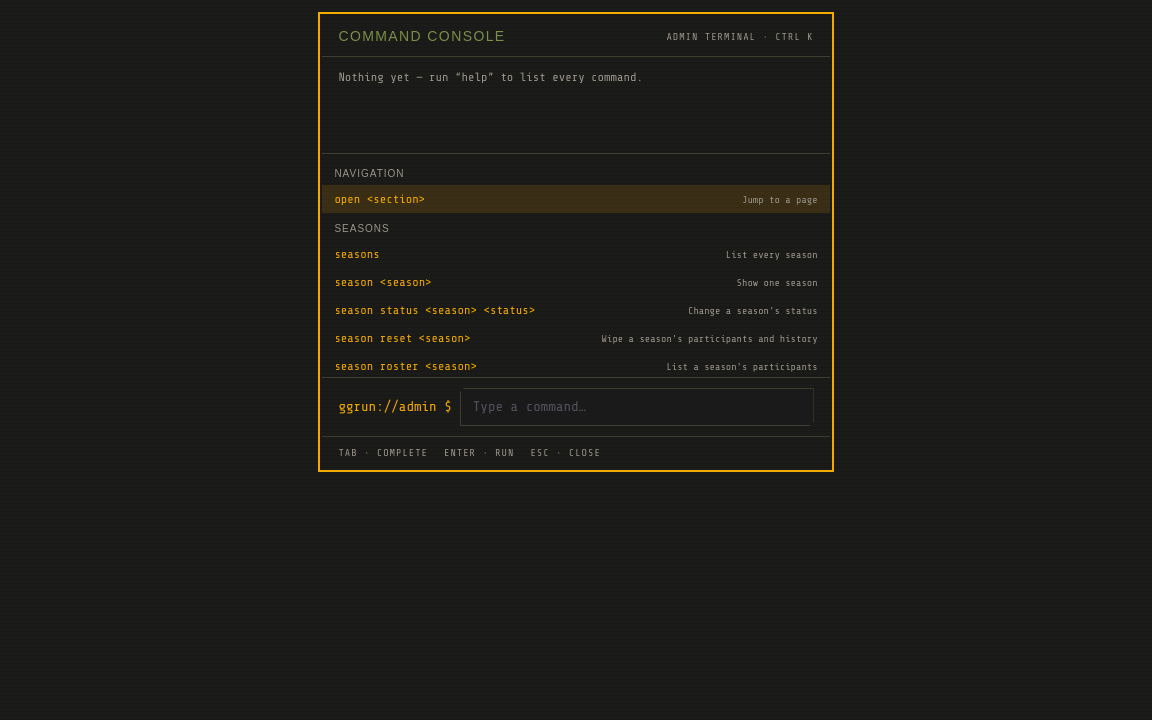
Scenario: client-only and result handling › revalidates and navigates when the outcome asks for it
Type "whoami" into the dropdown with placeholder "Type a command…" at (637, 407), box [460, 388, 814, 426]
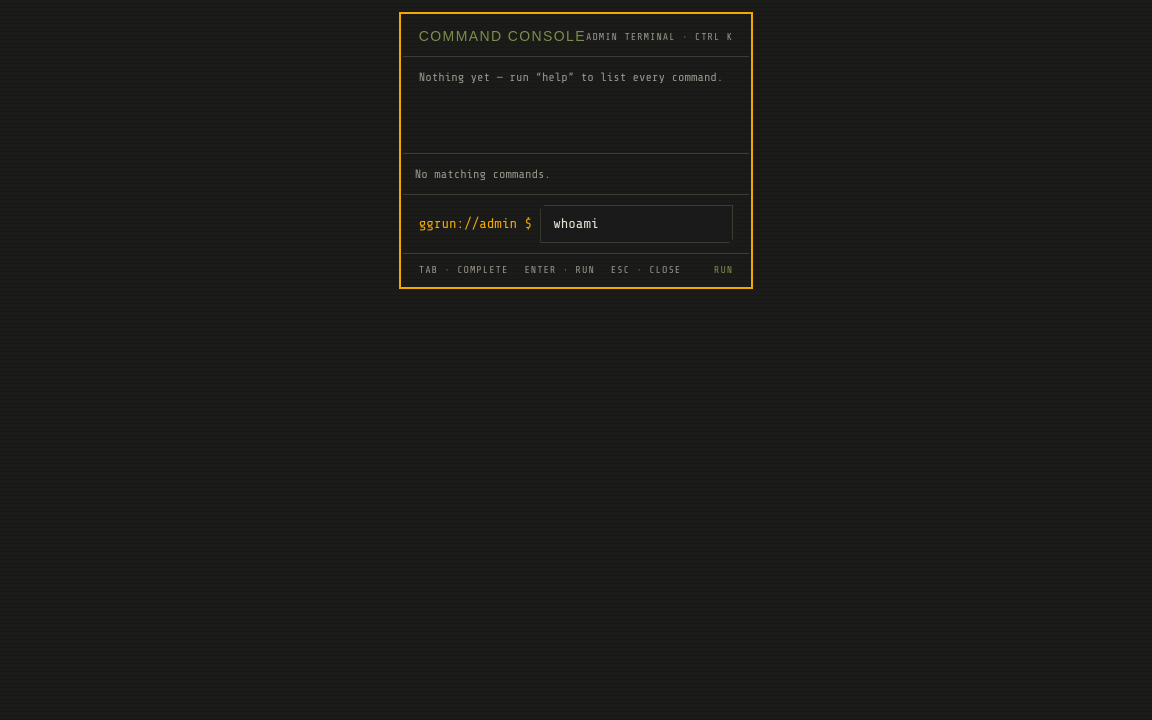
Press Enter in the dropdown with placeholder "Type a command…", box [540, 205, 733, 243]
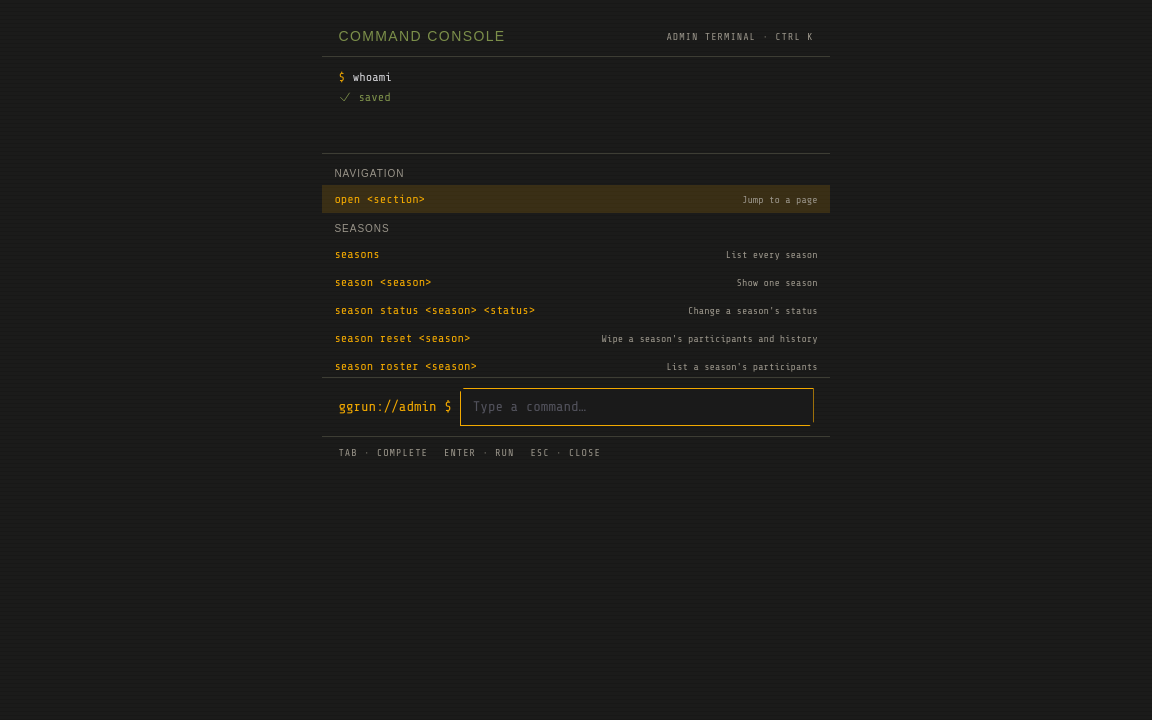
Expected: the text "saved" is shown, [358, 89, 391, 105]
